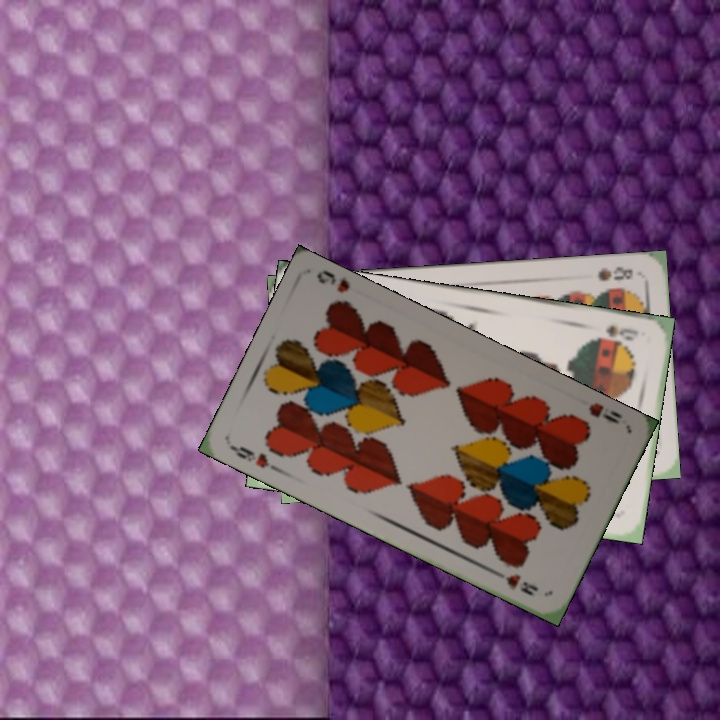H9: (227, 442, 282, 475), (584, 398, 625, 427)
S8: (594, 262, 636, 283)
SO: (594, 321, 641, 345)
